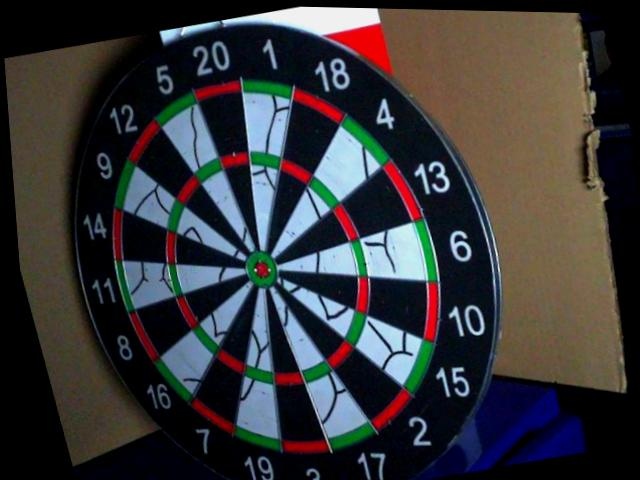bullseye: (246, 252, 277, 286)
